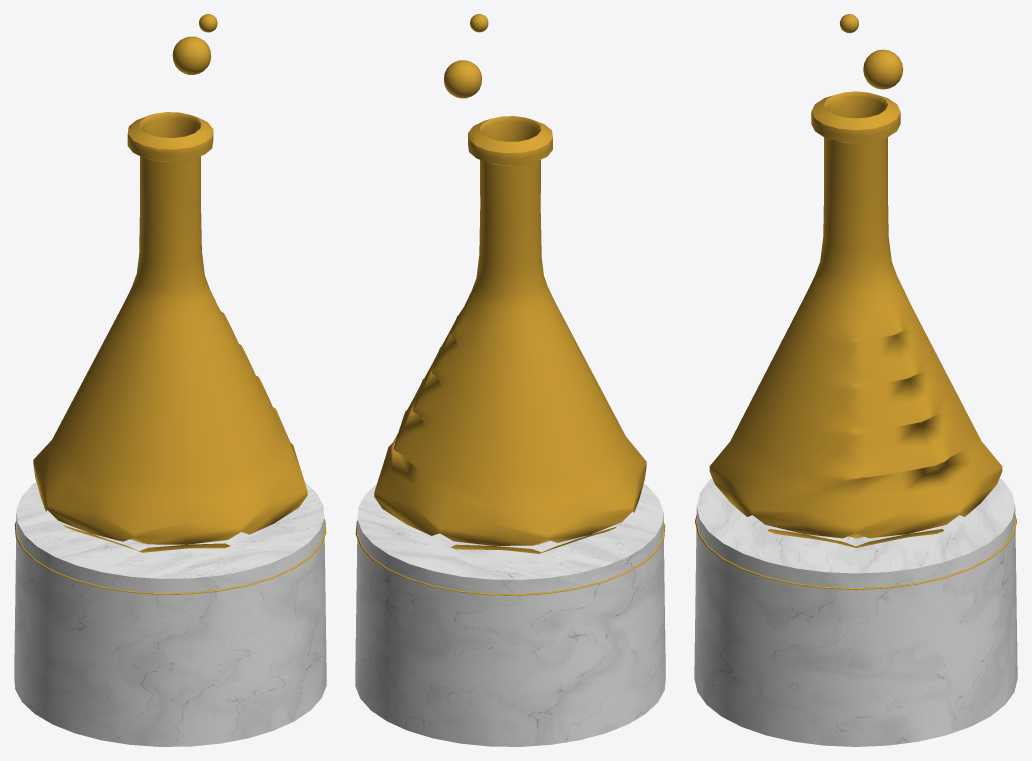
Rendered from chemistry.glb.
3 views of the same model, side by side, from view 1: azimuth 30°, elevation 25°; view 2: azimuth 150°, elevation 25°; view 3: azimuth 270°, elevation 25° (orthographic). The views are drawn at different scales.
Parts seen in each view (by area): view 1: marble_column, Beaker_Icosphere, gold_inlay_ring; view 2: marble_column, Beaker_Icosphere, gold_inlay_ring; view 3: marble_column, Beaker_Icosphere, gold_inlay_ring.
Boxes of the visible parts, x1,y1,x2,y2 form: marble_column: [14, 482, 326, 746]; Beaker_Icosphere: [33, 14, 307, 552]; gold_inlay_ring: [14, 519, 326, 594]; marble_column: [355, 484, 665, 746]; Beaker_Icosphere: [374, 14, 646, 553]; gold_inlay_ring: [355, 521, 665, 595]; marble_column: [694, 478, 1017, 746]; Beaker_Icosphere: [709, 14, 1002, 547]; gold_inlay_ring: [695, 515, 1016, 589].
Bounding box in the file's own units: 0.4302 × 1 × 0.4302.
Materials: 5 (1 with a texture image).
